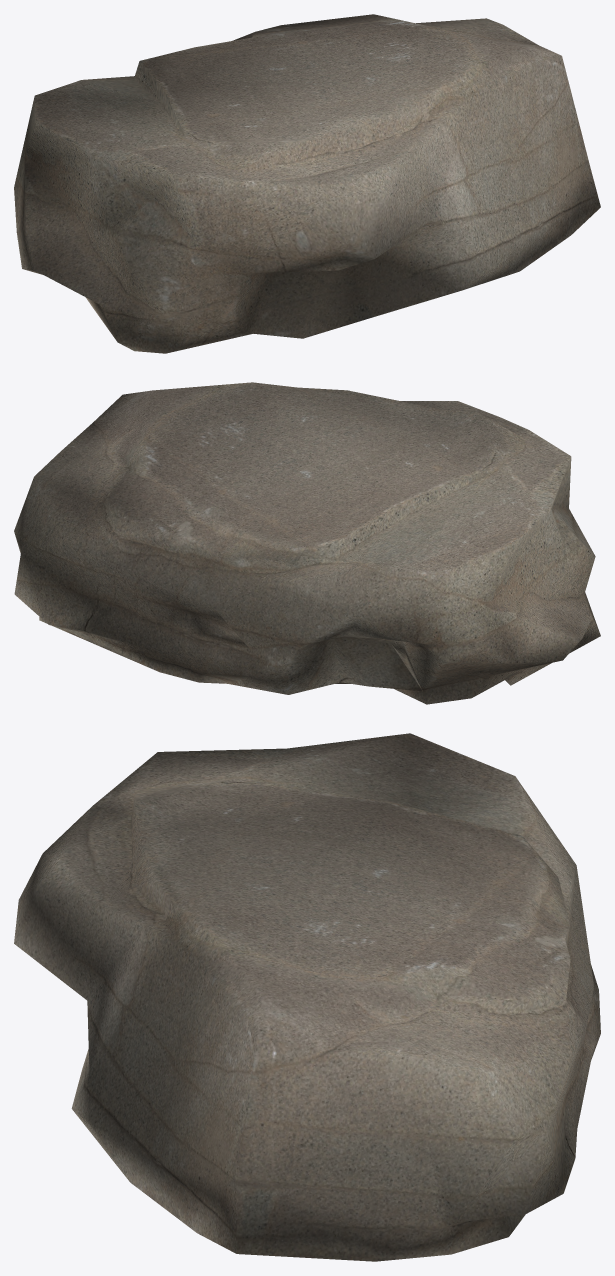
Rendered from sandstone_rock_wddjfdw_low.glb.
3 views of the same model, one above another, from view 1: azimuth 30°, elevation 25°; view 2: azimuth 150°, elevation 25°; view 3: azimuth 270°, elevation 25° (orthographic). The views are drawn at different scales.
Parts seen in each view (by area): view 1: wddjfdw_LOD0_TIER3_000; view 2: wddjfdw_LOD0_TIER3_000; view 3: wddjfdw_LOD0_TIER3_000.
Boxes of the visible parts, x1=… form: wddjfdw_LOD0_TIER3_000: x1=14, y1=14, x2=600, y2=353; wddjfdw_LOD0_TIER3_000: x1=14, y1=382, x2=600, y2=704; wddjfdw_LOD0_TIER3_000: x1=14, y1=733, x2=600, y2=1261.
Size of the model in its own units: 0.3 by 0.1058 by 0.221.
1 material, 1 textured.
